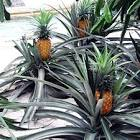Pineapple: (88, 44, 116, 116), (34, 8, 55, 61)
